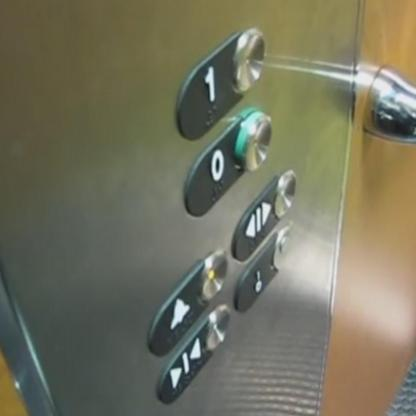0: (185, 106, 272, 218)
1: (175, 21, 266, 140)
alarm: (146, 242, 228, 352)
close: (158, 305, 232, 404)
key: (230, 226, 294, 312)
open: (233, 166, 297, 261)
